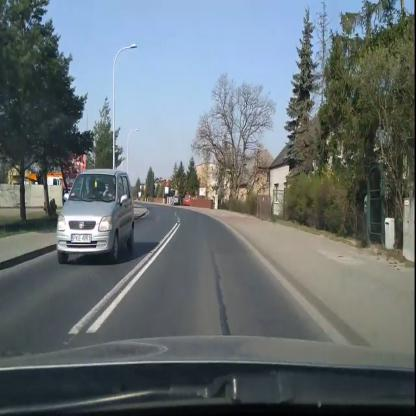cars: (56, 169, 135, 254)
